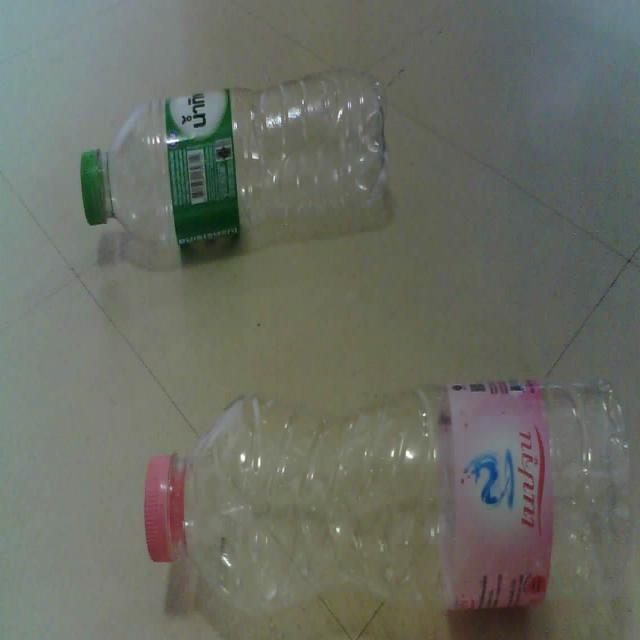empty: (144, 377, 633, 613), (82, 71, 386, 252)
